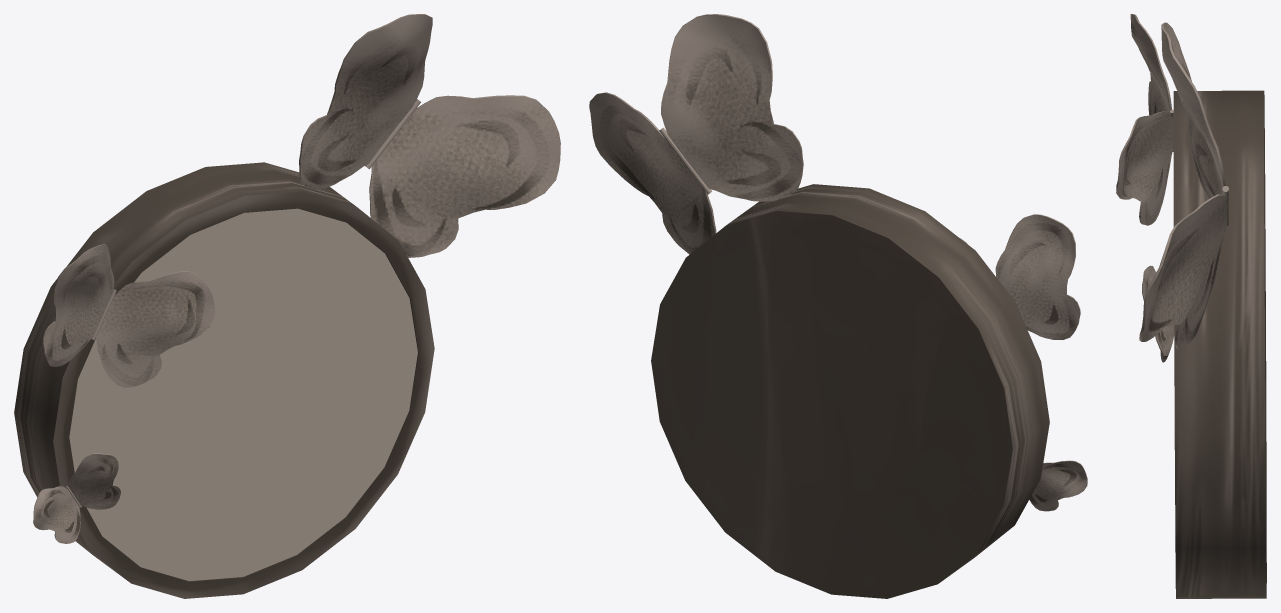
Rendered from Clock.fbx.
3 renders of one model, left to right at view 1: azimuth 30°, elevation 25°; view 2: azimuth 150°, elevation 25°; view 3: azimuth 270°, elevation 25°, orthographic. The views are drawn at different scales.
Visible parts, largest first — view 1: Clock_Glass_Frame, Clock, Clock_Frame; view 2: Clock_Frame, Clock; view 3: Clock_Frame, Clock.
Boxes of the visible parts, box(x1,y1,x2,y2) form: Clock_Glass_Frame: box(69, 208, 417, 581); Clock: box(33, 14, 560, 543); Clock_Frame: box(14, 162, 434, 598); Clock_Frame: box(651, 184, 1049, 598); Clock: box(589, 14, 1087, 511); Clock_Frame: box(1173, 90, 1266, 598); Clock: box(1116, 14, 1229, 362).
Size of the model in its own units: 95.62 by 94.36 by 20.46.
